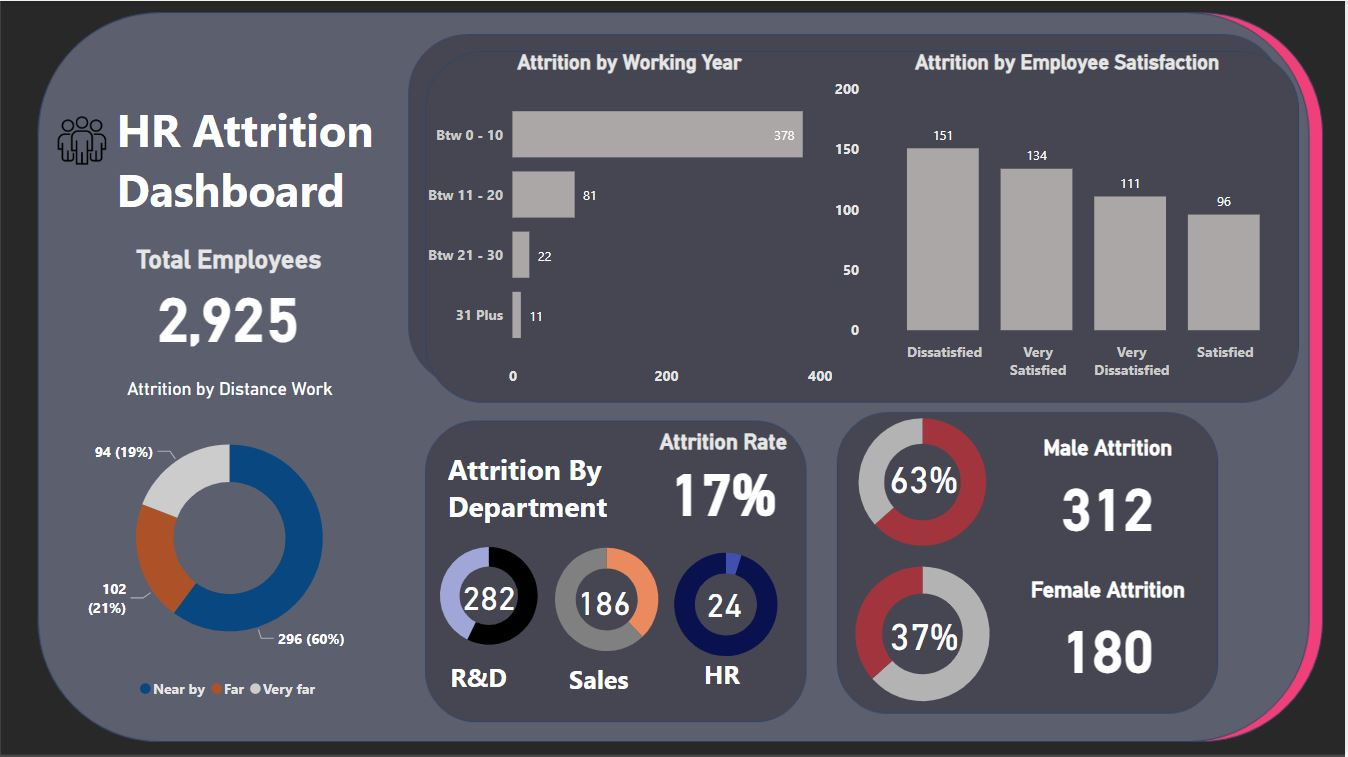

What the dashboard file says about the page in this screenshot:
{"tool":"powerbi","page":{"name":"HR Attrition","canvas":[1280,720],"ordinal":0},"visuals":[{"type":"card","title":"Total Employees","fields":{"Values":["All Measures.Total  Employees"]},"box":[78.2,231.9,278.5,101.5],"z":0},{"type":"donutChart","title":"Attrition by Distance Work","fields":{"Y":["All Measures.Total Attrition"],"Category":["Data.Distance Status"]},"box":[59,359.4,318.3,314.2],"z":1000},{"type":"barChart","title":"Attrition by Working Year","fields":{"Y":["All Measures.Total Attrition"],"Category":["Data.Working Years Group"]},"box":[400.6,48,396.5,329.3],"z":2000},{"type":"columnChart","title":"Attrition by Employee Satisfaction","fields":{"Category":["Data.Job Satisfaction Status"],"Y":["All Measures.Total Attrition"]},"box":[788.9,48,454.1,321],"z":3000},{"type":"card","title":"Attrition Rate","fields":{"Values":["All Measures.% Attrition"]},"box":[596.8,407.5,185.2,89.2],"z":4000},{"type":"donutChart","fields":{"Y":["All Measures.HR Department","All Measures.Remain HR"]},"box":[606.4,507.6,168.7,133.1],"z":5000},{"type":"donutChart","fields":{"Y":["All Measures.Sales Department","All Measures.Remain Sales"]},"box":[506.2,503.5,144.1,133.1],"z":6000},{"type":"donutChart","fields":{"Y":["All Measures.R&D Department","All Measures.Remain R&D"]},"box":[396.5,503.5,138.6,126.2],"z":7000},{"type":"textbox","box":[105.6,87.8,375.9,155],"z":8000},{"type":"textbox","box":[423.9,622.9,82.3,50.8],"z":9000},{"type":"textbox","box":[536.8,624.2,97.4,49.4],"z":10000},{"type":"textbox","box":[664.8,620.4,71.3,50.8],"z":11000},{"type":"card","fields":{"Values":["All Measures.HR Department"]},"box":[658.5,537.8,63.1,71.3],"z":12000},{"type":"card","fields":{"Values":["All Measures.Sales Department"]},"box":[543.3,535,63.1,71.3],"z":13000},{"type":"card","fields":{"Values":["All Measures.R&D Department"]},"box":[434.9,530.7,63.1,71.3],"z":14000},{"type":"textbox","box":[421.2,422.6,304.6,123.5],"z":15000},{"type":"donutChart","fields":{"Y":["All Measures.Total Attrition"],"Category":["Data.Gender"]},"box":[765.5,377.3,226.4,161.9],"z":16000},{"type":"donutChart","fields":{"Y":["All Measures.Total Attrition"],"Category":["Data.Gender"]},"box":[765.5,517.2,226.4,170.1],"z":17000},{"type":"card","title":"Male Attrition","fields":{"Values":["All Measures.Male Attrition"]},"box":[953.5,412.9,203,107],"z":18000},{"type":"card","title":"Female Attrition","fields":{"Values":["All Measures.Female Attrition"]},"box":[953.5,548.8,203,105.6],"z":19000},{"type":"card","fields":{"Values":["All Measures.% Male Attrition"]},"box":[825.9,412.9,107,80.9],"z":20000},{"type":"card","fields":{"Values":["All Measures.% Female Attrition"]},"box":[825.9,573.5,108.4,57.6],"z":21000},{"type":"image","box":[49.4,100.2,56.2,65.9],"z":22000}]}

Visuals, with their boxes in screenshot pixels (x1, y1, x2, y2), scaled from the page's 1280x720 canvas onto the 1348x757 screenshot:
"Total Employees" card: {"left": 82, "top": 244, "right": 376, "bottom": 351}
"Attrition by Distance Work" donutChart: {"left": 62, "top": 378, "right": 397, "bottom": 708}
"Attrition by Working Year" barChart: {"left": 422, "top": 50, "right": 839, "bottom": 397}
"Attrition by Employee Satisfaction" columnChart: {"left": 831, "top": 50, "right": 1309, "bottom": 388}
"Attrition Rate" card: {"left": 629, "top": 428, "right": 824, "bottom": 522}
donutChart - All Measures.HR Department x All Measures.Remain HR: {"left": 639, "top": 534, "right": 816, "bottom": 674}
donutChart - All Measures.Sales Department x All Measures.Remain Sales: {"left": 533, "top": 529, "right": 685, "bottom": 669}
donutChart - All Measures.R&D Department x All Measures.Remain R&D: {"left": 418, "top": 529, "right": 564, "bottom": 662}
textbox: {"left": 111, "top": 92, "right": 507, "bottom": 255}
textbox: {"left": 446, "top": 655, "right": 533, "bottom": 708}
textbox: {"left": 565, "top": 656, "right": 668, "bottom": 708}
textbox: {"left": 700, "top": 652, "right": 775, "bottom": 706}
card - All Measures.HR Department: {"left": 693, "top": 565, "right": 760, "bottom": 640}
card - All Measures.Sales Department: {"left": 572, "top": 562, "right": 639, "bottom": 637}
card - All Measures.R&D Department: {"left": 458, "top": 558, "right": 524, "bottom": 633}
textbox: {"left": 444, "top": 444, "right": 764, "bottom": 574}
donutChart - All Measures.Total Attrition x Data.Gender: {"left": 806, "top": 397, "right": 1045, "bottom": 567}
donutChart - All Measures.Total Attrition x Data.Gender: {"left": 806, "top": 544, "right": 1045, "bottom": 723}
"Male Attrition" card: {"left": 1004, "top": 434, "right": 1218, "bottom": 547}
"Female Attrition" card: {"left": 1004, "top": 577, "right": 1218, "bottom": 688}
card - All Measures.% Male Attrition: {"left": 870, "top": 434, "right": 982, "bottom": 519}
card - All Measures.% Female Attrition: {"left": 870, "top": 603, "right": 984, "bottom": 664}
image: {"left": 52, "top": 105, "right": 111, "bottom": 175}
